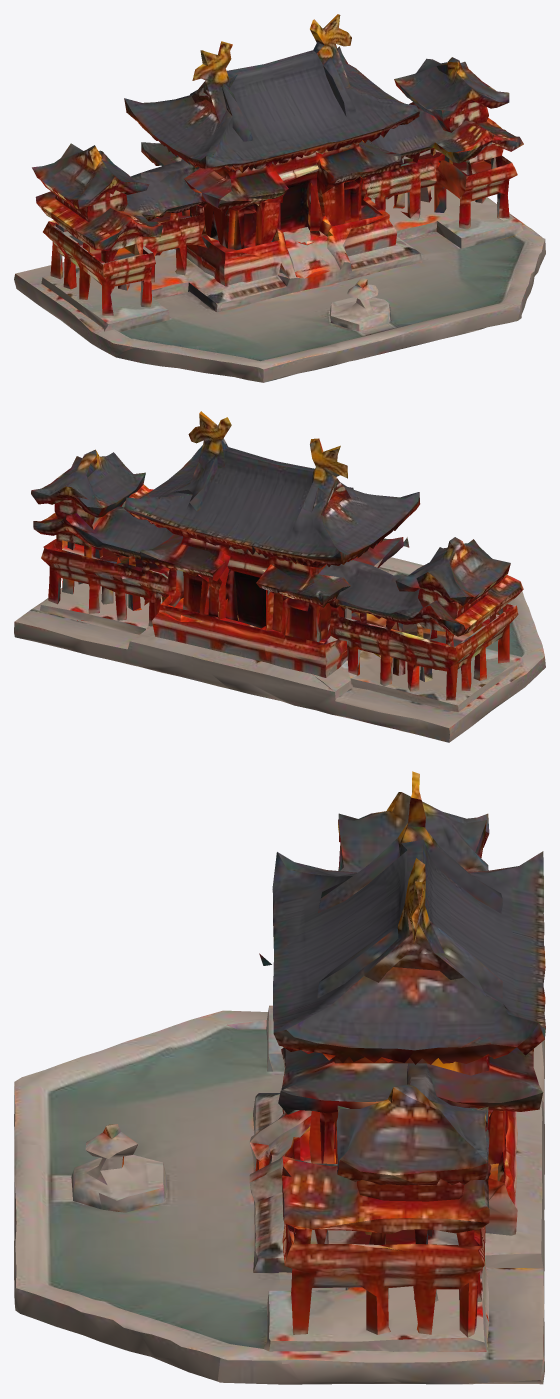
The model's file is byodoin.glb.
3 renders of one model, top to bottom at view 1: azimuth 30°, elevation 25°; view 2: azimuth 150°, elevation 25°; view 3: azimuth 270°, elevation 25°, orthographic. The views are drawn at different scales.
Visible parts, largest first — view 1: logan-textured.obj; view 2: logan-textured.obj; view 3: logan-textured.obj.
Boxes of the visible parts, <box> form: logan-textured.obj: <box>14,14,545,382</box>; logan-textured.obj: <box>14,411,545,742</box>; logan-textured.obj: <box>14,771,545,1384</box>.
Size of the model in its own units: 1 by 0.516 by 0.6396.
Materials: 1 (1 with a texture image).
